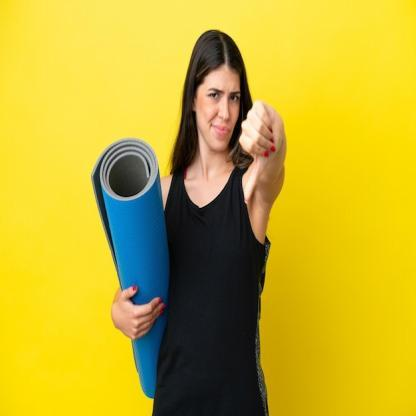thumb_down: (236, 97, 287, 205)
